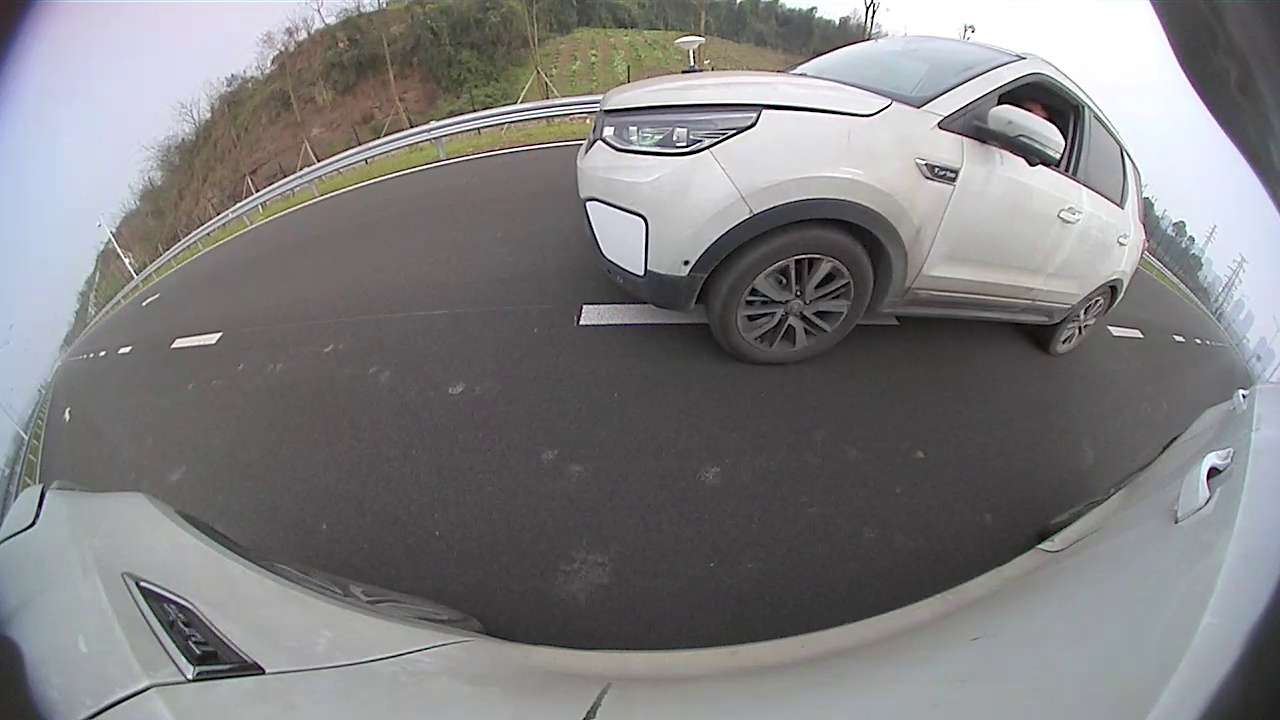car: (575, 33, 1147, 365)
front: (711, 230, 873, 361)
rear: (1049, 287, 1111, 356)
